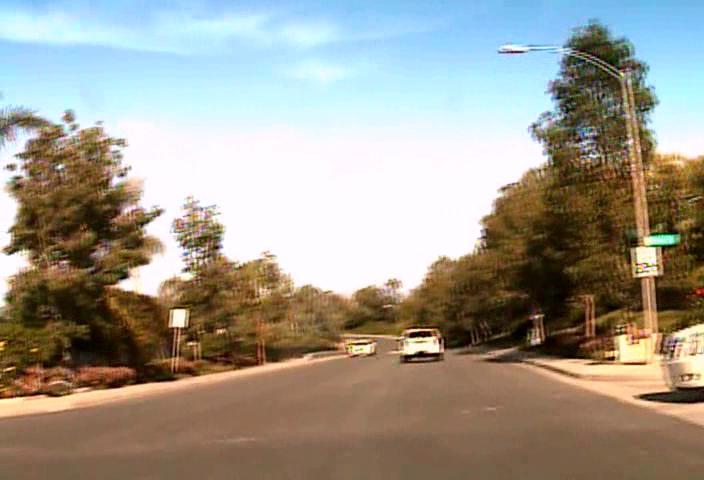speedLimit25: (633, 245, 662, 276)
